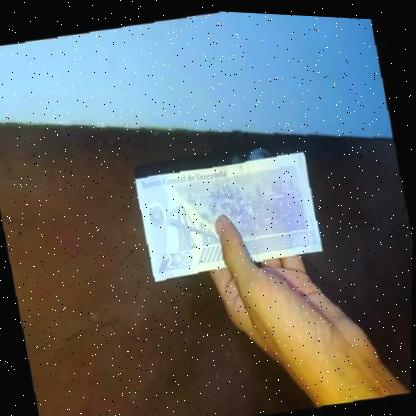two_hundred-back-vef: (132, 140, 326, 287)
